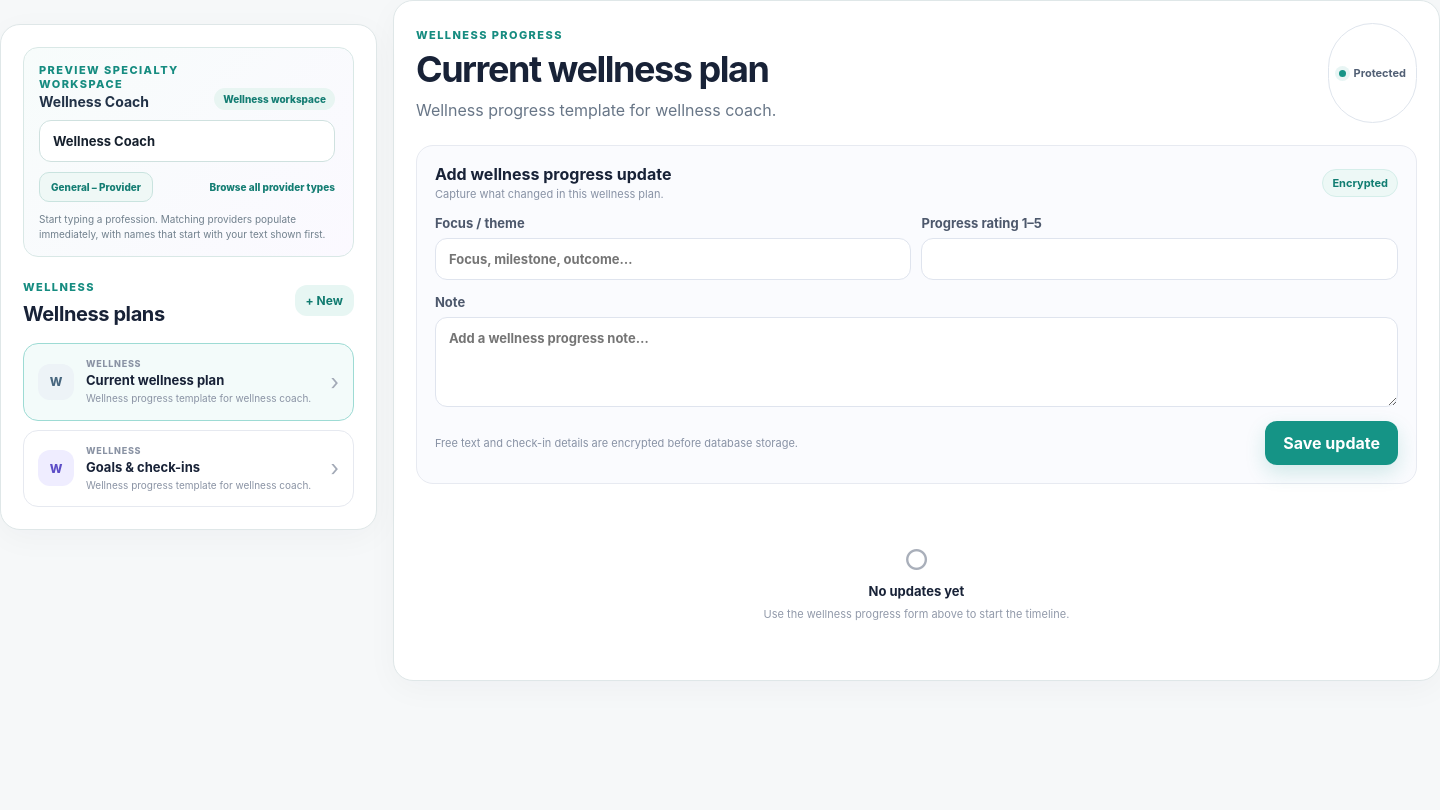
PortalWorkspace specialty selector › shows only provider names beginning with a one-letter query
The image size is (1440, 810).
Replace the text in the field named "Search specialties" with "a": [187, 141] box [39, 120, 335, 162]
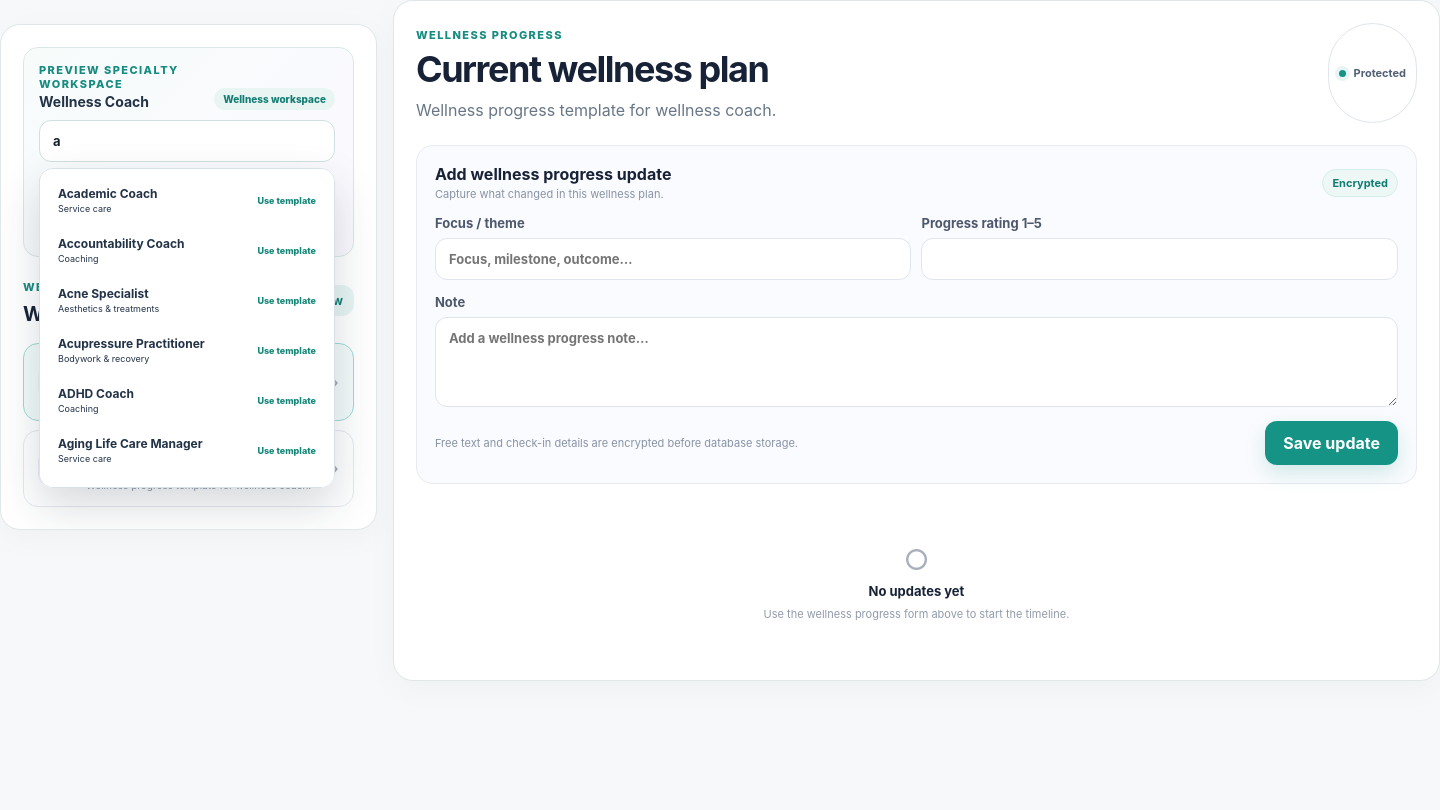
Check: the text "Acne Specialist" is shown, box [58, 286, 159, 301]
Check: the text "Academic Coach" is shown, box [58, 186, 158, 201]
